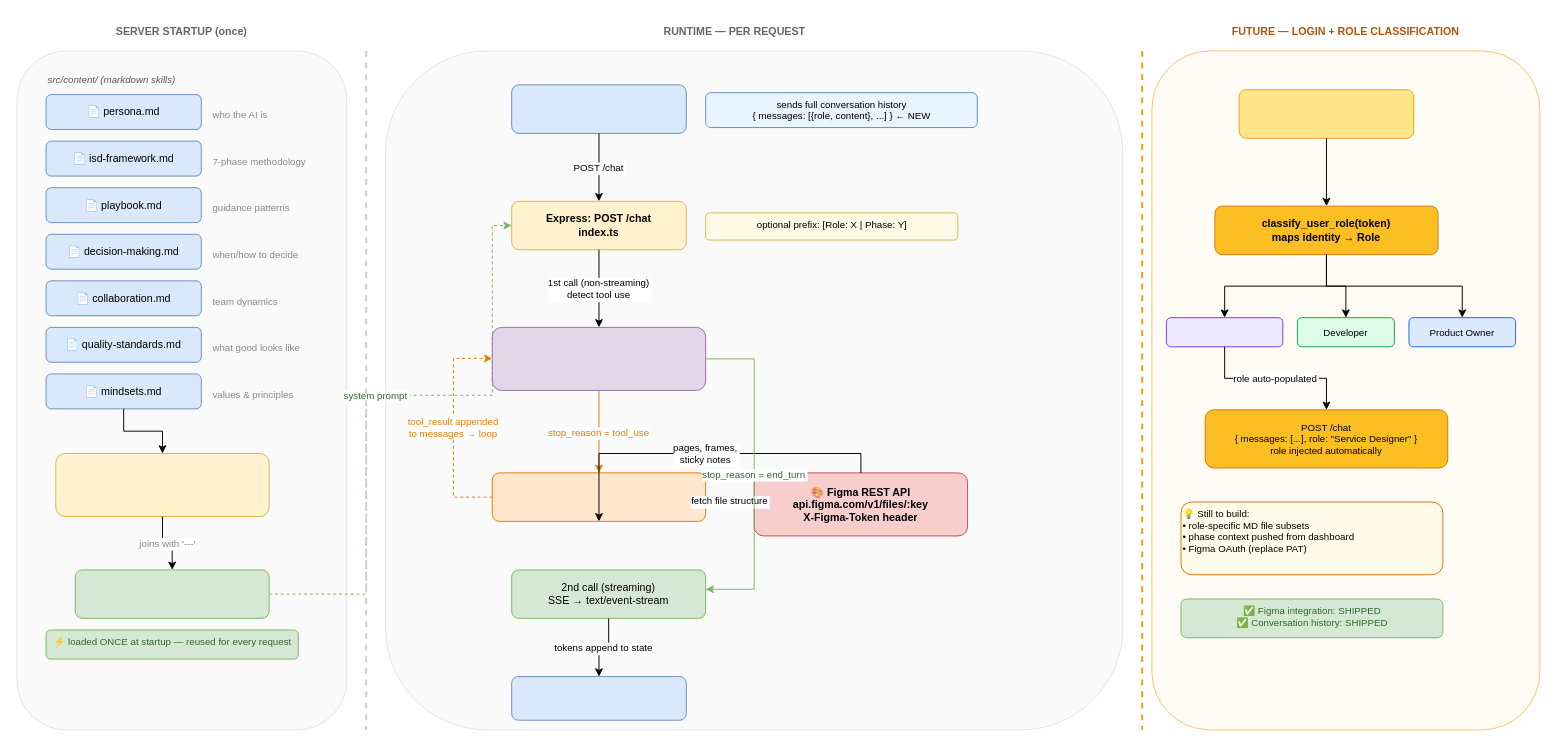
This 1557x748 diagram has some shape labels left out. Each missing label, with the centre of its shape:
"Anthropic SDK claude-sonnet-4-6 + tools: [get_figma_file] ← NEW" belongs at (598,358).
"ChatScreen renders streamed reply" belongs at (598,698).
"executeTool() get_figma_file" belongs at (598,496).
"Service Designer" belongs at (1224,332).
"skills.ts loadSystemPrompt() fetchFigmaFile() ← NEW extractFigmaKey() ← NEW" belongs at (162,485).
"SYSTEM_PROMPT (in-memory string)" belongs at (171,593).
"👤 UI Designer ISDChat.tsx" belongs at (598,108).
"👤 User Login (auth token)" belongs at (1326,113).
